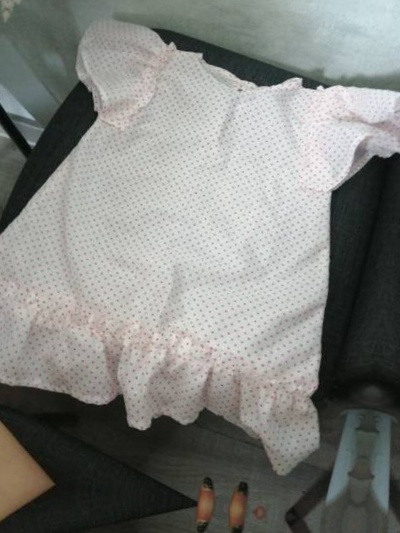Dress: (0, 0, 400, 482), (383, 37, 400, 533), (0, 515, 326, 533)
